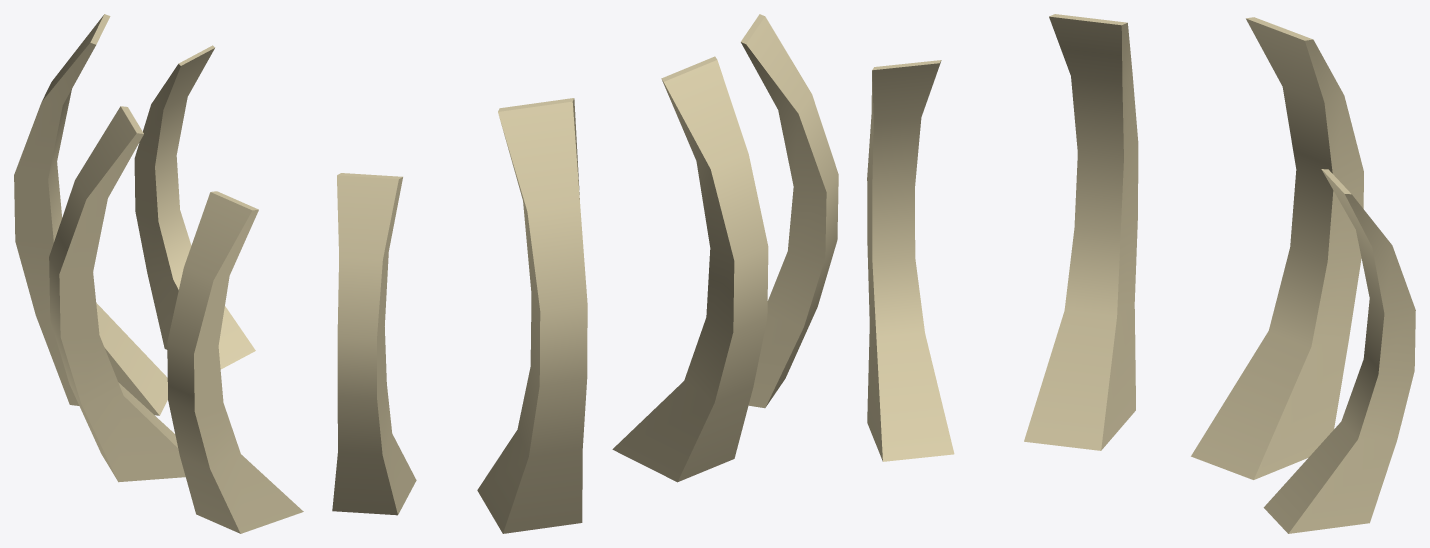
Rendered from P_bone_03.fbx.
3 renders of one model, left to right at view 1: azimuth 30°, elevation 25°; view 2: azimuth 150°, elevation 25°; view 3: azimuth 270°, elevation 25°, orthographic. The views are drawn at different scales.
Parts seen in each view (by area): view 1: lod1; view 2: lod1; view 3: lod1.
Boxes of the visible parts, box(x1,y1,x2,y2) form: lod1: box(14, 14, 303, 533); lod1: box(332, 14, 838, 533); lod1: box(867, 14, 1415, 533).
Size of what is drawn, in the model's own units: 32.21 by 39.61 by 47.36.
Materials: 1 (1 with a texture image).
